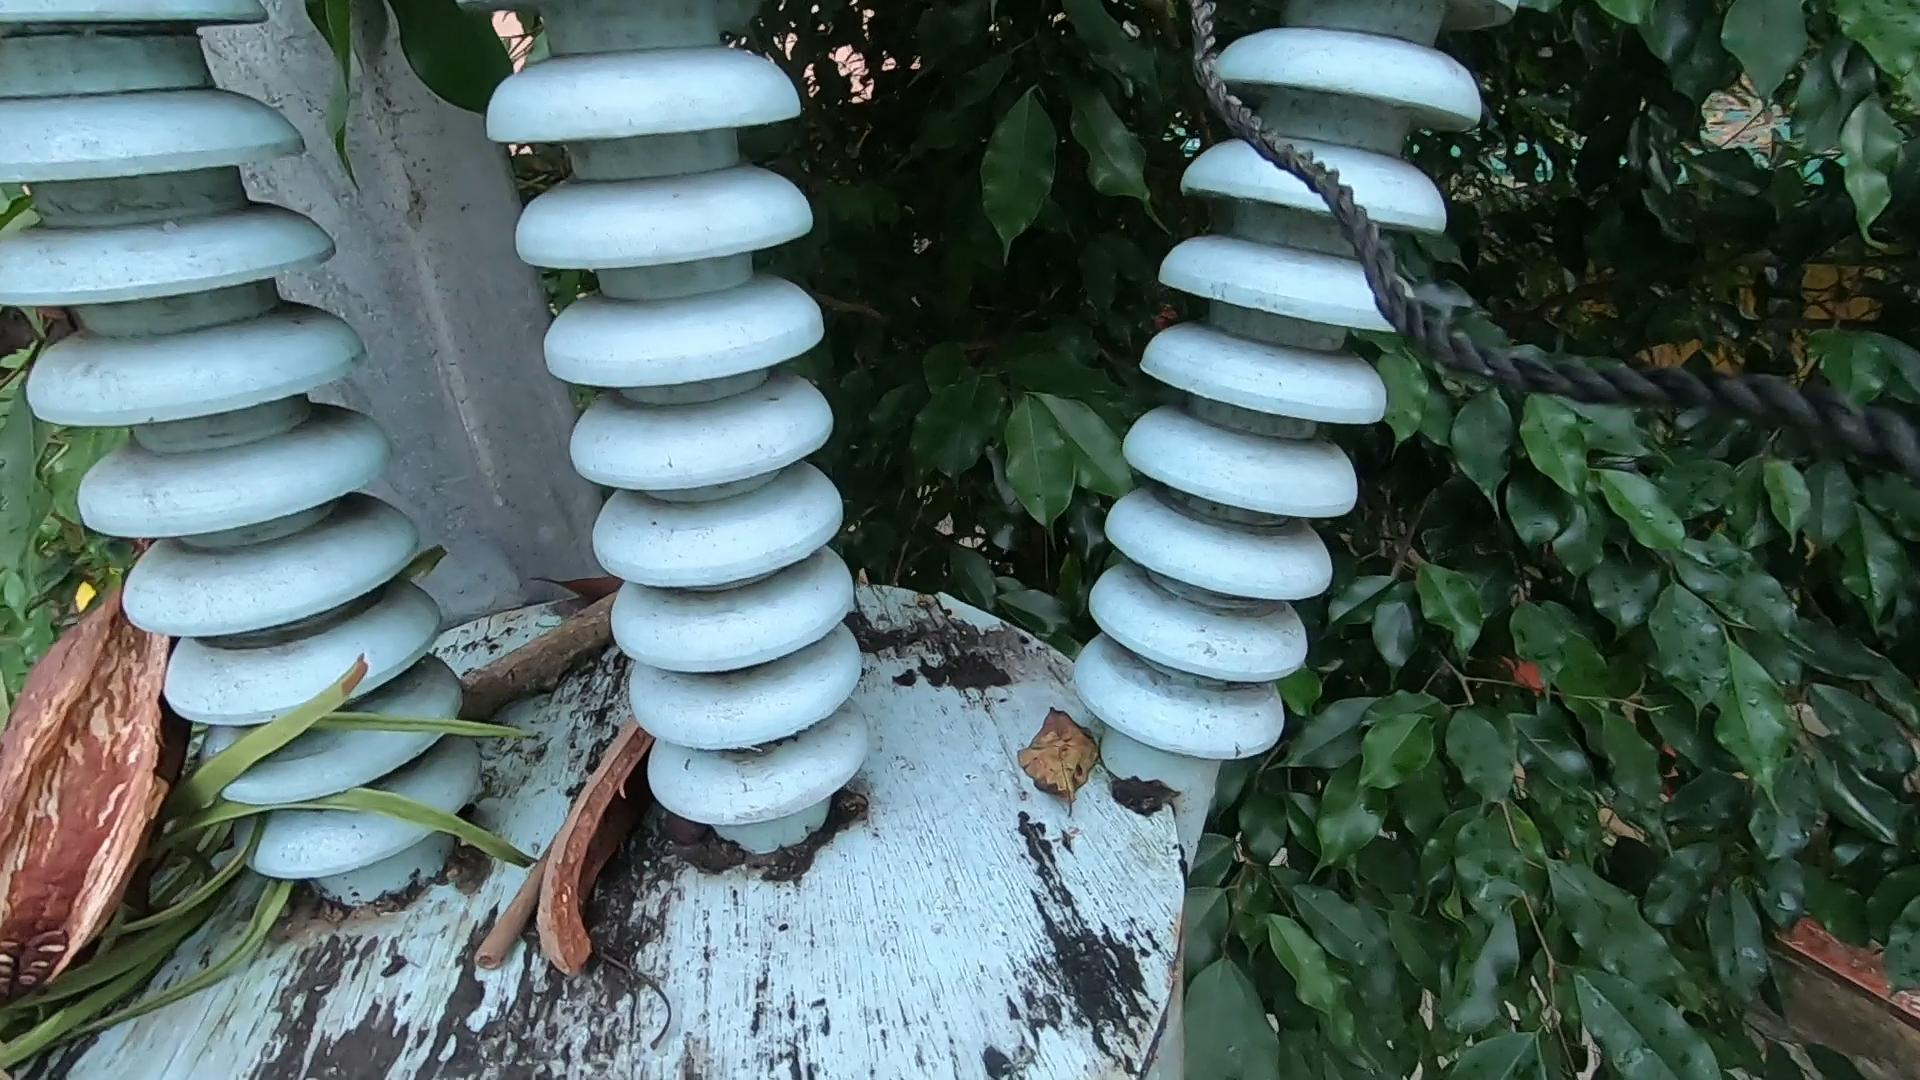branch with leaves: (26, 498, 742, 1011)
leaf: (997, 657, 1120, 843)
mahogany fruit: (51, 555, 146, 1004), (556, 728, 629, 1000)
tree branch: (469, 721, 802, 1080)
